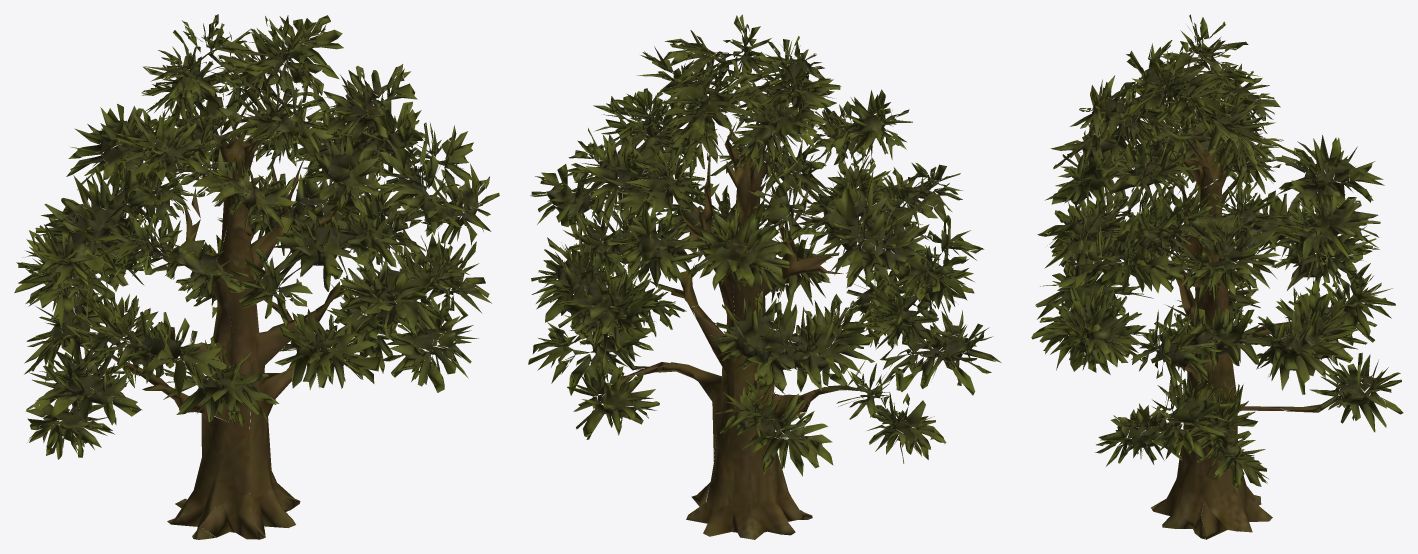
The model's file is LacquerTree.glb.
3 renders of one model, left to right at view 1: azimuth 30°, elevation 25°; view 2: azimuth 150°, elevation 25°; view 3: azimuth 270°, elevation 25°, orthographic. The views are drawn at different scales.
Parts seen in each view (by area): view 1: Mesh_0; view 2: Mesh_0; view 3: Mesh_0.
Part boxes in pixels (x1,y1,x2,y2): Mesh_0: (14,14,499,539); Mesh_0: (528,14,1001,539); Mesh_0: (1031,14,1403,539).
Bounding box in the file's own units: 0.9674 × 0.9997 × 0.7019.
Materials: 1 (1 with a texture image).
